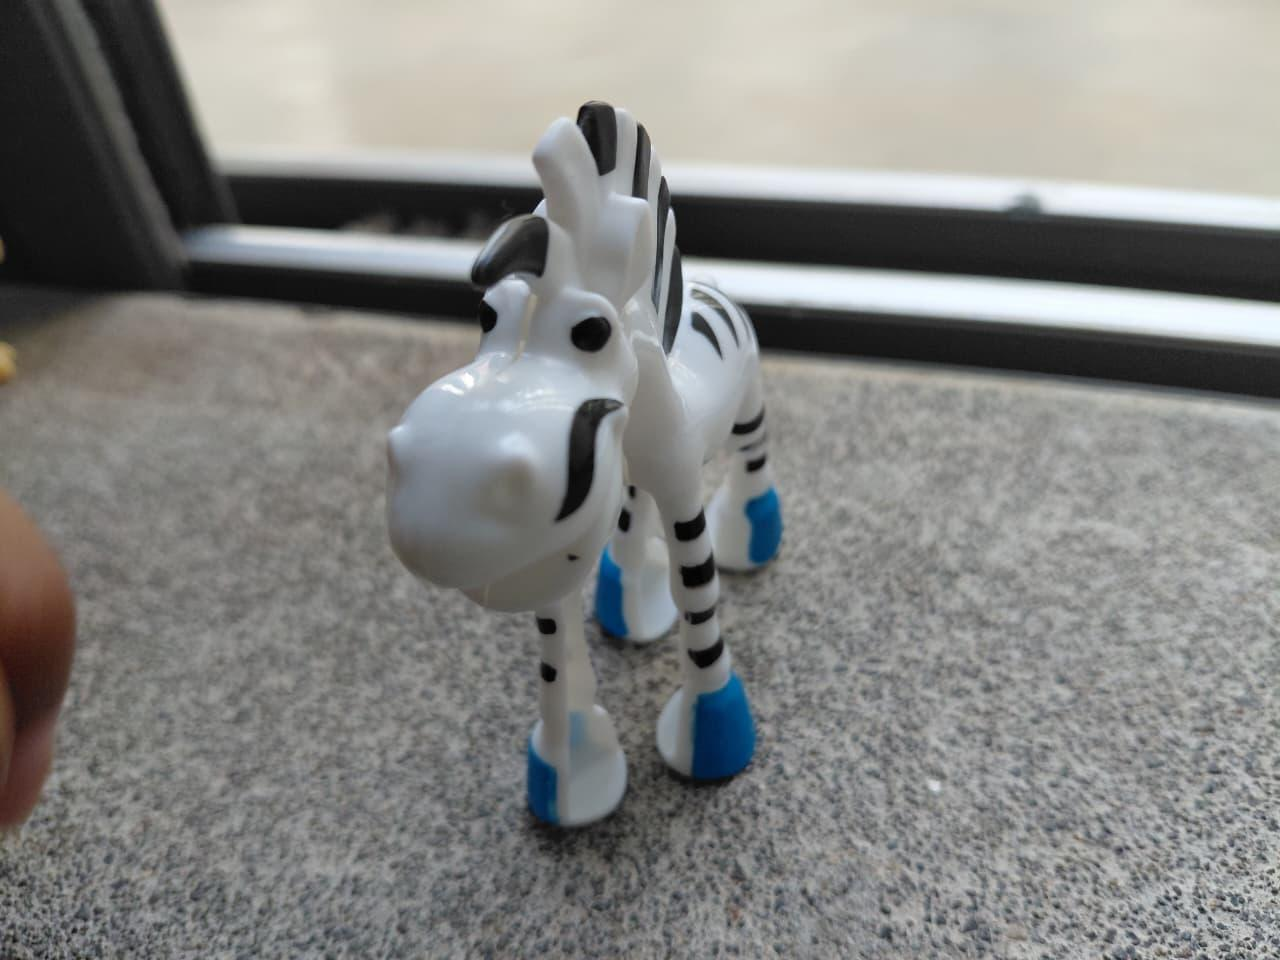zebra: (264, 97, 894, 858)
